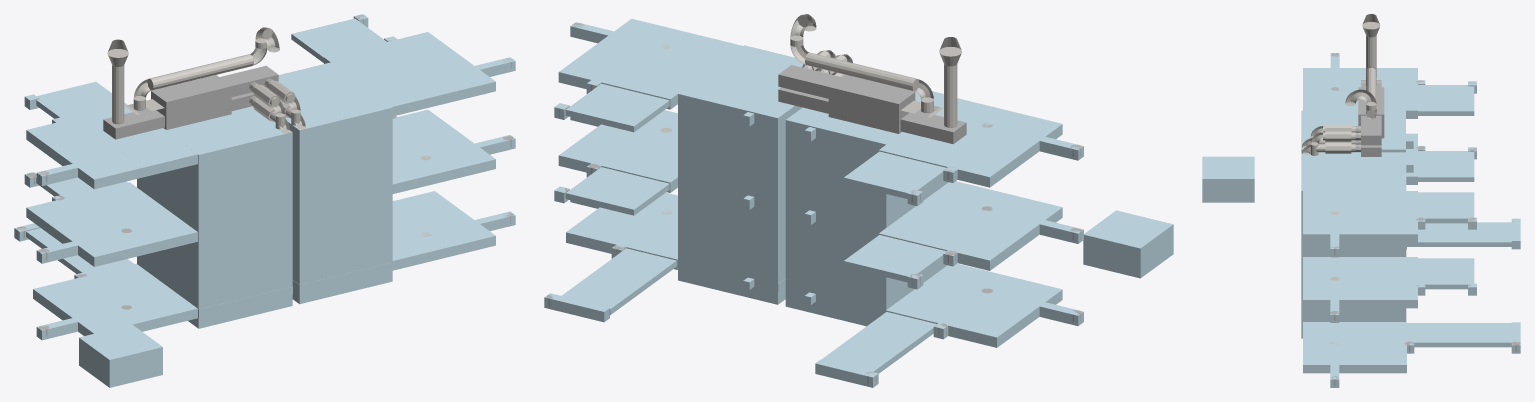
3 renders of one model, left to right at view 1: azimuth 30°, elevation 25°; view 2: azimuth 150°, elevation 25°; view 3: azimuth 270°, elevation 25°, orthographic. The views are drawn at different scales.
Parts seen in each view (by area): view 1: 1LBaL88BrC7h7vCPC1bzuZ, 148FlNlY1ArvIG8TRazvTY, 19oBEzIr12XQFWDJIclsZ3, 0nScfNko1AM999BDV_lSPJ, 1JcbQ_pm18Yx8y9S1ghHwU, 3LWdBS0DjBuRX3lmL56Y_E, 1ODBe0UFj6HfOy3ub4EnuQ, 3bqKpKsIL3Q9nKkGagM22I, 3FC728dBbCQu9I8FeArrHZ, 1E2pEAUpb5w913BC$RrDbI, 0LX8AkxeD4eRCRe20XuWLu, 2dlfKk1LnDwvfdReHLpc3P (+15 smaller); view 2: 148FlNlY1ArvIG8TRazvTY, 1LBaL88BrC7h7vCPC1bzuZ, 0nScfNko1AM999BDV_lSPJ, 19oBEzIr12XQFWDJIclsZ3, 1JcbQ_pm18Yx8y9S1ghHwU, 3LWdBS0DjBuRX3lmL56Y_E, 3bqKpKsIL3Q9nKkGagM22I, 1ODBe0UFj6HfOy3ub4EnuQ, 3FC728dBbCQu9I8FeArrHZ, 1E2pEAUpb5w913BC$RrDbI, 0LX8AkxeD4eRCRe20XuWLu, 1vgFi2fknBGQUb7hLlHRuF (+17 smaller); view 3: 3LWdBS0DjBuRX3lmL56Y_E, 3FC728dBbCQu9I8FeArrHZ, 148FlNlY1ArvIG8TRazvTY, 1E2pEAUpb5w913BC$RrDbI, 1ODBe0UFj6HfOy3ub4EnuQ, 1cGb7teUj9oQtNRvl3ZlZV, 0LX8AkxeD4eRCRe20XuWLu, 1vgFi2fknBGQUb7hLlHRuF, 1LBaL88BrC7h7vCPC1bzuZ, 3kkqZAFAfC_e_J0xZ_lYH7, 0DVmR7RcH0ufEmODhMJLoe, 1bvAMtgIjD6OjyyTaC_0Eq (+10 smaller).
Part boxes in pixels (x1,y1,x2,y2): 1LBaL88BrC7h7vCPC1bzuZ: (137, 106, 292, 241); 148FlNlY1ArvIG8TRazvTY: (278, 62, 392, 212); 19oBEzIr12XQFWDJIclsZ3: (137, 186, 292, 328); 0nScfNko1AM999BDV_lSPJ: (292, 184, 392, 304); 1JcbQ_pm18Yx8y9S1ghHwU: (26, 182, 197, 266); 3LWdBS0DjBuRX3lmL56Y_E: (324, 32, 495, 116); 1ODBe0UFj6HfOy3ub4EnuQ: (26, 106, 197, 189); 3bqKpKsIL3Q9nKkGagM22I: (33, 264, 197, 335); 3FC728dBbCQu9I8FeArrHZ: (392, 109, 495, 193); 1E2pEAUpb5w913BC$RrDbI: (392, 191, 495, 270); 0LX8AkxeD4eRCRe20XuWLu: (79, 324, 162, 387); 2dlfKk1LnDwvfdReHLpc3P: (151, 75, 231, 129); 148FlNlY1ArvIG8TRazvTY: (678, 45, 803, 211); 1LBaL88BrC7h7vCPC1bzuZ: (785, 78, 947, 235); 0nScfNko1AM999BDV_lSPJ: (678, 176, 785, 304); 19oBEzIr12XQFWDJIclsZ3: (785, 182, 948, 326); 1JcbQ_pm18Yx8y9S1ghHwU: (878, 181, 1062, 270); 3LWdBS0DjBuRX3lmL56Y_E: (558, 18, 742, 109); 3bqKpKsIL3Q9nKkGagM22I: (886, 263, 1062, 347); 1ODBe0UFj6HfOy3ub4EnuQ: (878, 98, 1062, 187); 3FC728dBbCQu9I8FeArrHZ: (558, 110, 677, 192); 1E2pEAUpb5w913BC$RrDbI: (566, 192, 677, 269); 0LX8AkxeD4eRCRe20XuWLu: (1083, 210, 1173, 278); 1vgFi2fknBGQUb7hLlHRuF: (822, 312, 936, 373); 3LWdBS0DjBuRX3lmL56Y_E: (1303, 191, 1417, 242); 3FC728dBbCQu9I8FeArrHZ: (1303, 257, 1417, 308); 148FlNlY1ArvIG8TRazvTY: (1301, 152, 1406, 264); 1E2pEAUpb5w913BC$RrDbI: (1303, 322, 1406, 373); 1ODBe0UFj6HfOy3ub4EnuQ: (1303, 68, 1417, 118); 1cGb7teUj9oQtNRvl3ZlZV: (1407, 323, 1511, 347); 0LX8AkxeD4eRCRe20XuWLu: (1202, 156, 1254, 202); 1vgFi2fknBGQUb7hLlHRuF: (1407, 222, 1511, 246); 1LBaL88BrC7h7vCPC1bzuZ: (1301, 110, 1405, 152); 3kkqZAFAfC_e_J0xZ_lYH7: (1418, 151, 1474, 181); 0DVmR7RcH0ufEmODhMJLoe: (1418, 85, 1474, 115); 1bvAMtgIjD6OjyyTaC_0Eq: (1418, 258, 1474, 289).
Size of the model in its own units: 18.03 by 9.53 by 12.18.
